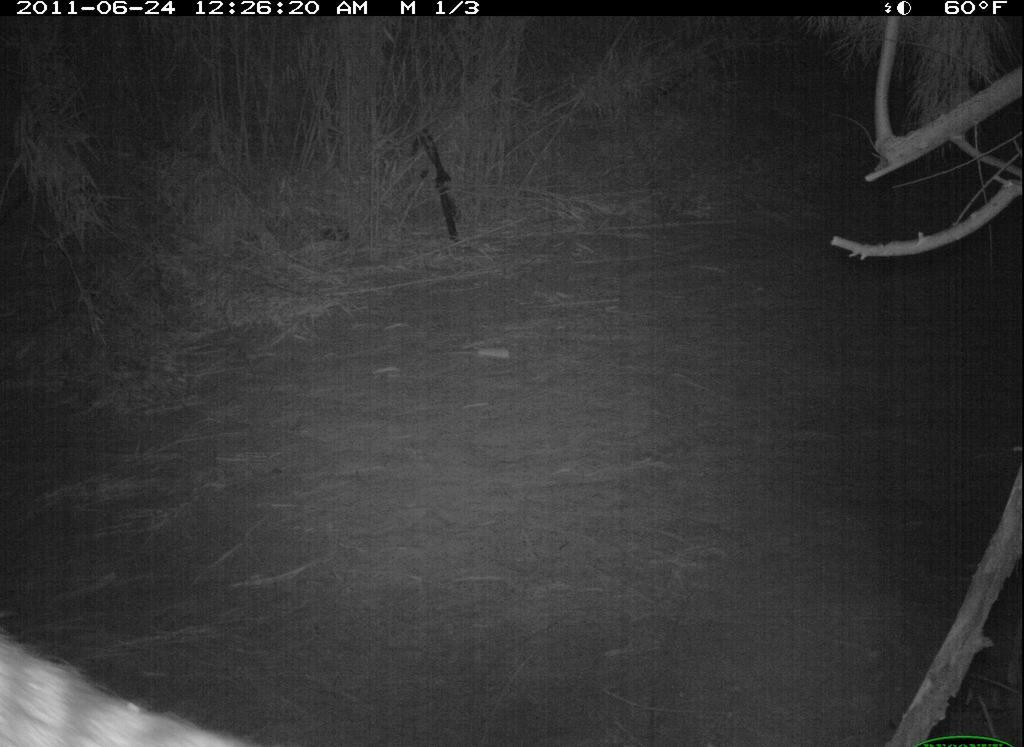raccoon: (6, 550, 309, 743)
